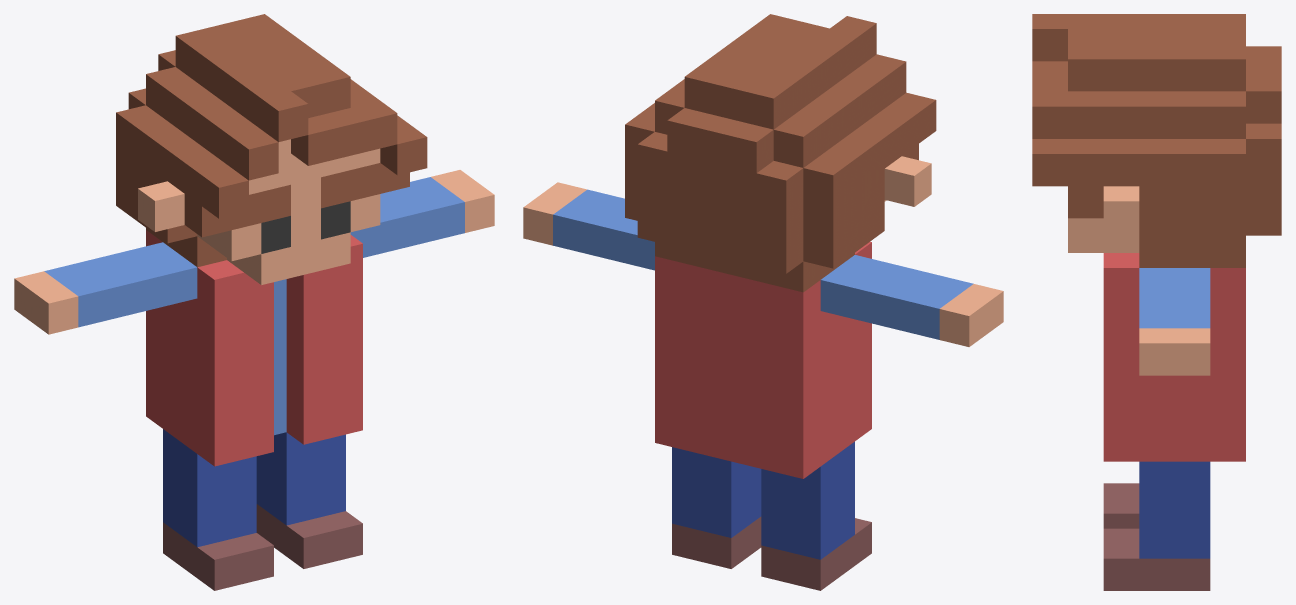
Rendered from persona1_t.vox.obj.
3 views of the same model, side by side, from view 1: azimuth 30°, elevation 25°; view 2: azimuth 150°, elevation 25°; view 3: azimuth 270°, elevation 25° (orthographic). The views are drawn at different scales.
Bounding box in the file's own units: 1.5 × 1.6 × 0.7.
Materials: 1 (1 with a texture image).
